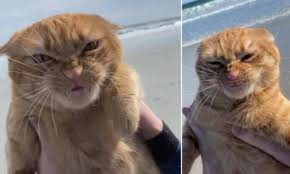cat: (1, 5, 168, 174), (189, 25, 287, 170)
